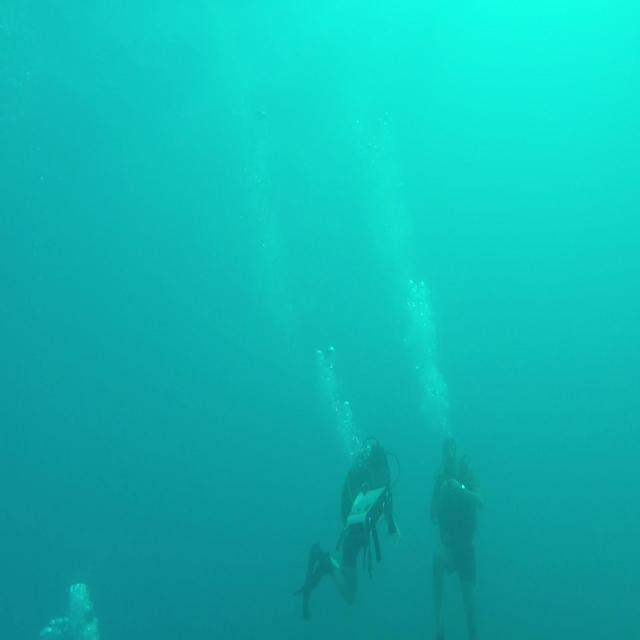human: (293, 436, 400, 622), (428, 436, 484, 638)
